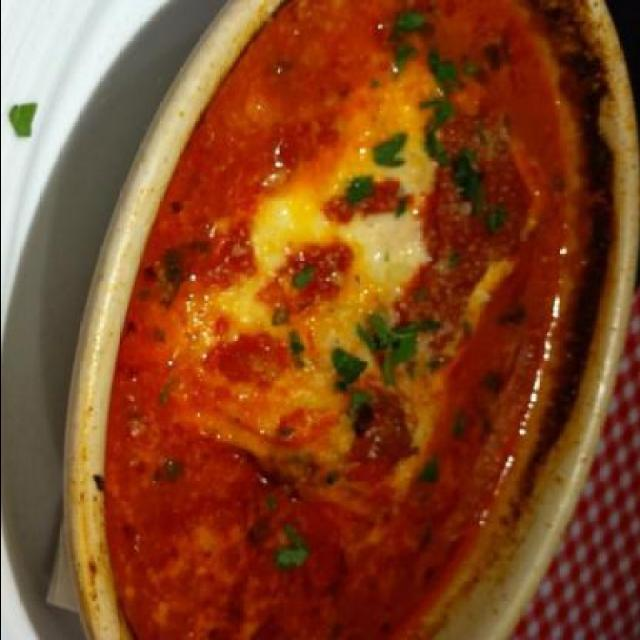Lasagna: (119, 41, 543, 596)
